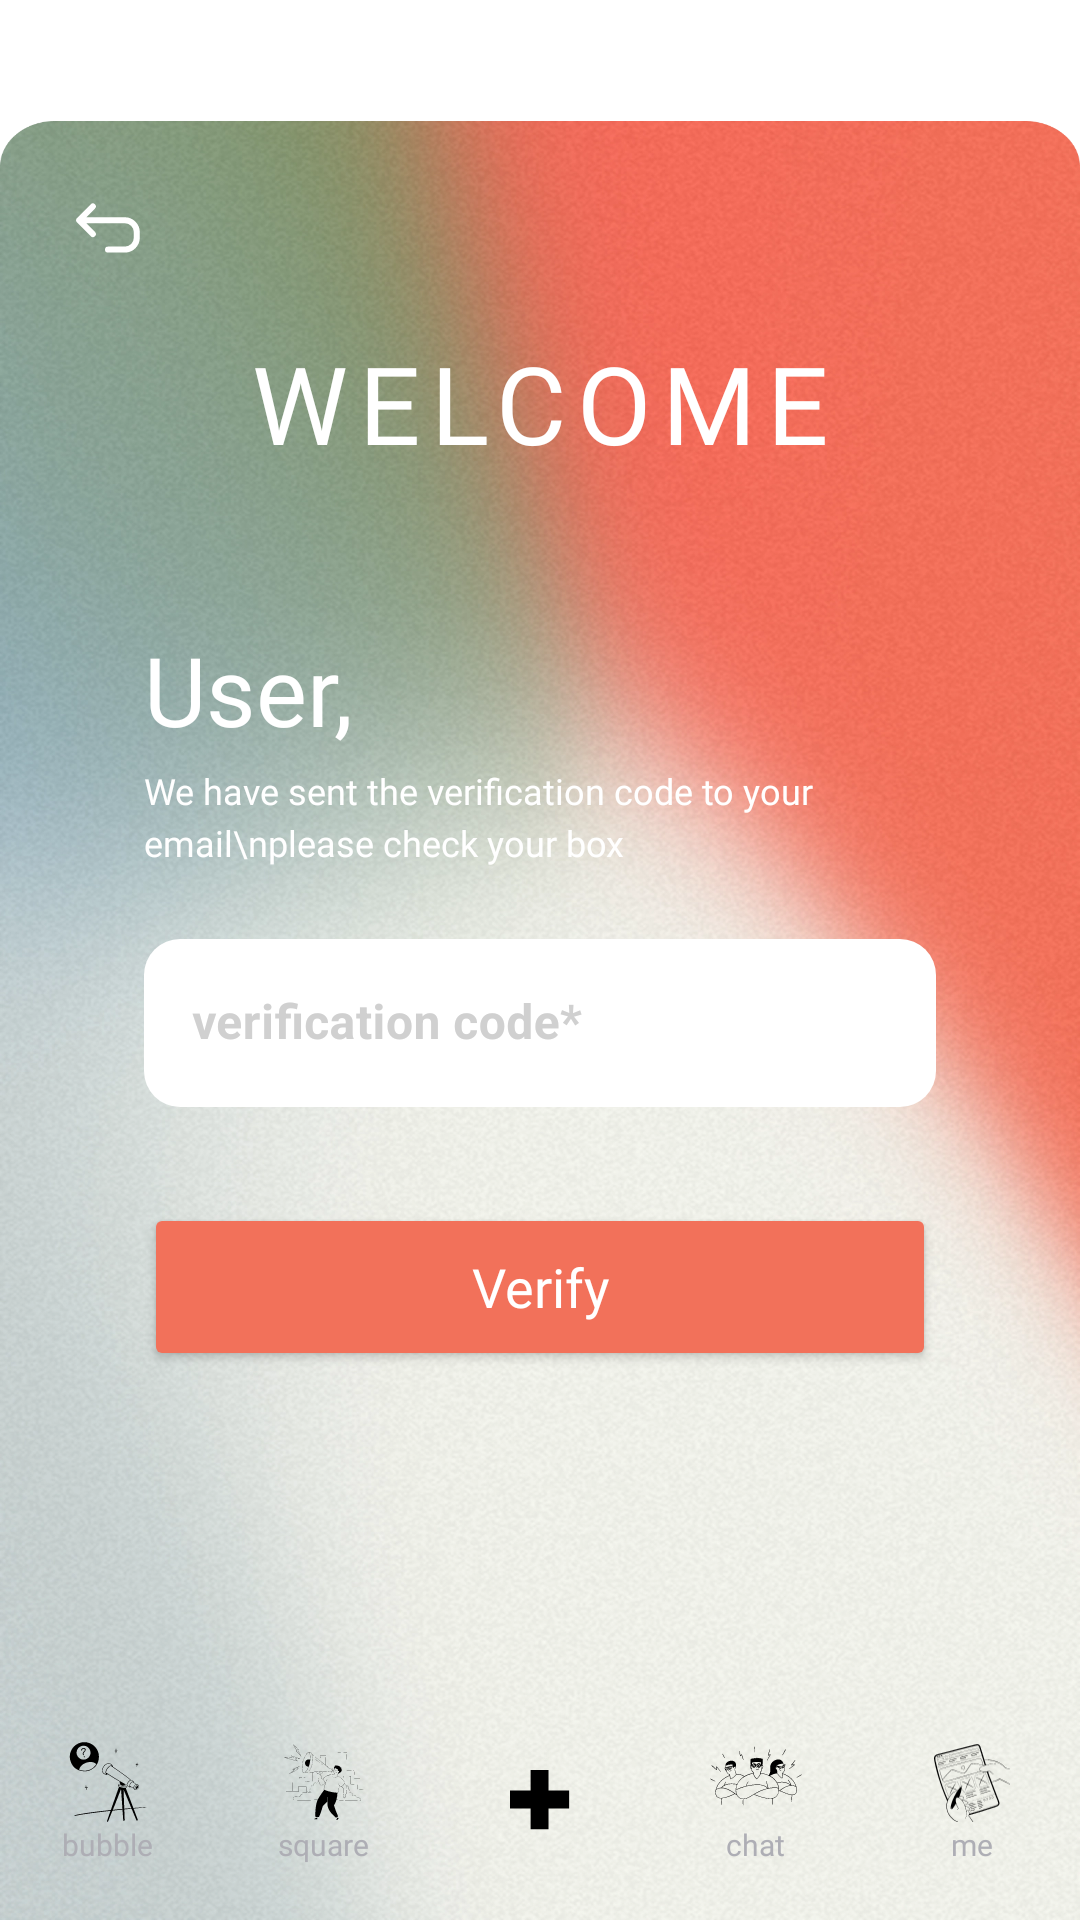

Named icons in this screenshot (1080px x 1920px) and their bounding boxes, BBox(x1, y1, x2, y2):
add: BBox(510, 1770, 570, 1830)
back: BBox(76, 203, 140, 253)
